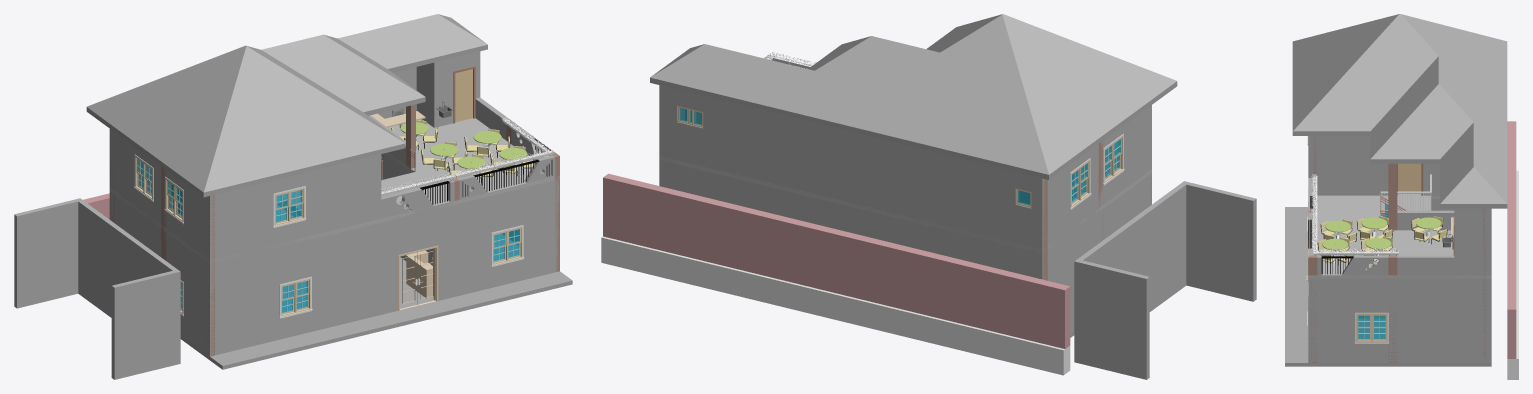
Rendered from Nha1.glb.
3 views of the same model, side by side, from view 1: azimuth 30°, elevation 25°; view 2: azimuth 150°, elevation 25°; view 3: azimuth 270°, elevation 25° (orthographic). The views are drawn at different scales.
Parts seen in each view (by area): view 1: NHA_1_127,127,127,100, NHA_1_120,120,120,100, NHA_1_142,141,140,100, NHA_1_124,80,67,100, NHA_1_224,178,126,100, NHA_1_0,128,192,25, NHA_1_242,242,238,100, NHA_1_255,255,255,100, NHA_1_222,184,136,100, NHA_1_141,185,60,100, NHA_1_246,223,112,100, NHA_1_0,0,0,100 (+2 smaller); view 2: NHA_1_127,127,127,100, NHA_1_120,120,120,100, NHA_1_170,98,104,100, NHA_1_227,227,227,100, NHA_1_142,141,140,100, NHA_1_224,178,126,100, NHA_1_0,128,192,25, NHA_1_124,80,67,100, NHA_1_242,242,238,100; view 3: NHA_1_120,120,120,100, NHA_1_127,127,127,100, NHA_1_142,141,140,100, NHA_1_170,98,104,100, NHA_1_124,80,67,100, NHA_1_255,255,255,100, NHA_1_246,223,112,100, NHA_1_141,185,60,100, NHA_1_227,227,227,100, NHA_1_210,159,95,100, NHA_1_0,128,192,25, NHA_1_224,178,126,100 (+5 smaller).
Boxes of the visible parts, box(x1,y1,x2,y2) form: NHA_1_127,127,127,100: box(14, 51, 559, 379); NHA_1_120,120,120,100: box(86, 14, 572, 369); NHA_1_142,141,140,100: box(109, 118, 559, 263); NHA_1_124,80,67,100: box(109, 104, 559, 356); NHA_1_224,178,126,100: box(135, 156, 522, 316); NHA_1_0,128,192,25: box(137, 159, 519, 312); NHA_1_242,242,238,100: box(134, 154, 524, 318); NHA_1_255,255,255,100: box(381, 116, 553, 196); NHA_1_222,184,136,100: box(371, 111, 433, 298); NHA_1_141,185,60,100: box(400, 122, 527, 169); NHA_1_246,223,112,100: box(392, 120, 535, 177); NHA_1_0,0,0,100: box(420, 138, 550, 204); NHA_1_127,127,127,100: box(659, 56, 1256, 379); NHA_1_120,120,120,100: box(650, 14, 1177, 337); NHA_1_170,98,104,100: box(603, 173, 1070, 348); NHA_1_227,227,227,100: box(601, 236, 1070, 375); NHA_1_142,141,140,100: box(659, 156, 1151, 253); NHA_1_224,178,126,100: box(677, 105, 1123, 208); NHA_1_0,128,192,25: box(679, 107, 1120, 205); NHA_1_124,80,67,100: box(764, 54, 1151, 280); NHA_1_242,242,238,100: box(1070, 133, 1124, 210); NHA_1_120,120,120,100: box(1285, 14, 1507, 366); NHA_1_127,127,127,100: box(1308, 136, 1491, 362); NHA_1_142,141,140,100: box(1308, 194, 1491, 278); NHA_1_170,98,104,100: box(1507, 121, 1516, 358); NHA_1_124,80,67,100: box(1308, 136, 1486, 362); NHA_1_255,255,255,100: box(1311, 174, 1431, 255); NHA_1_246,223,112,100: box(1318, 216, 1446, 262); NHA_1_141,185,60,100: box(1322, 217, 1441, 250); NHA_1_227,227,227,100: box(1507, 170, 1518, 379); NHA_1_210,159,95,100: box(1365, 163, 1421, 317); NHA_1_0,128,192,25: box(1358, 204, 1388, 339); NHA_1_224,178,126,100: box(1356, 314, 1387, 342).
Bounding box in the file's own units: 20.07 × 10.19 × 9.19.
